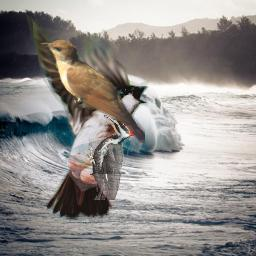Cuckoo: (40, 39, 145, 143)
Swallow: (25, 13, 149, 219)
Woodpecker: (87, 113, 140, 200)
